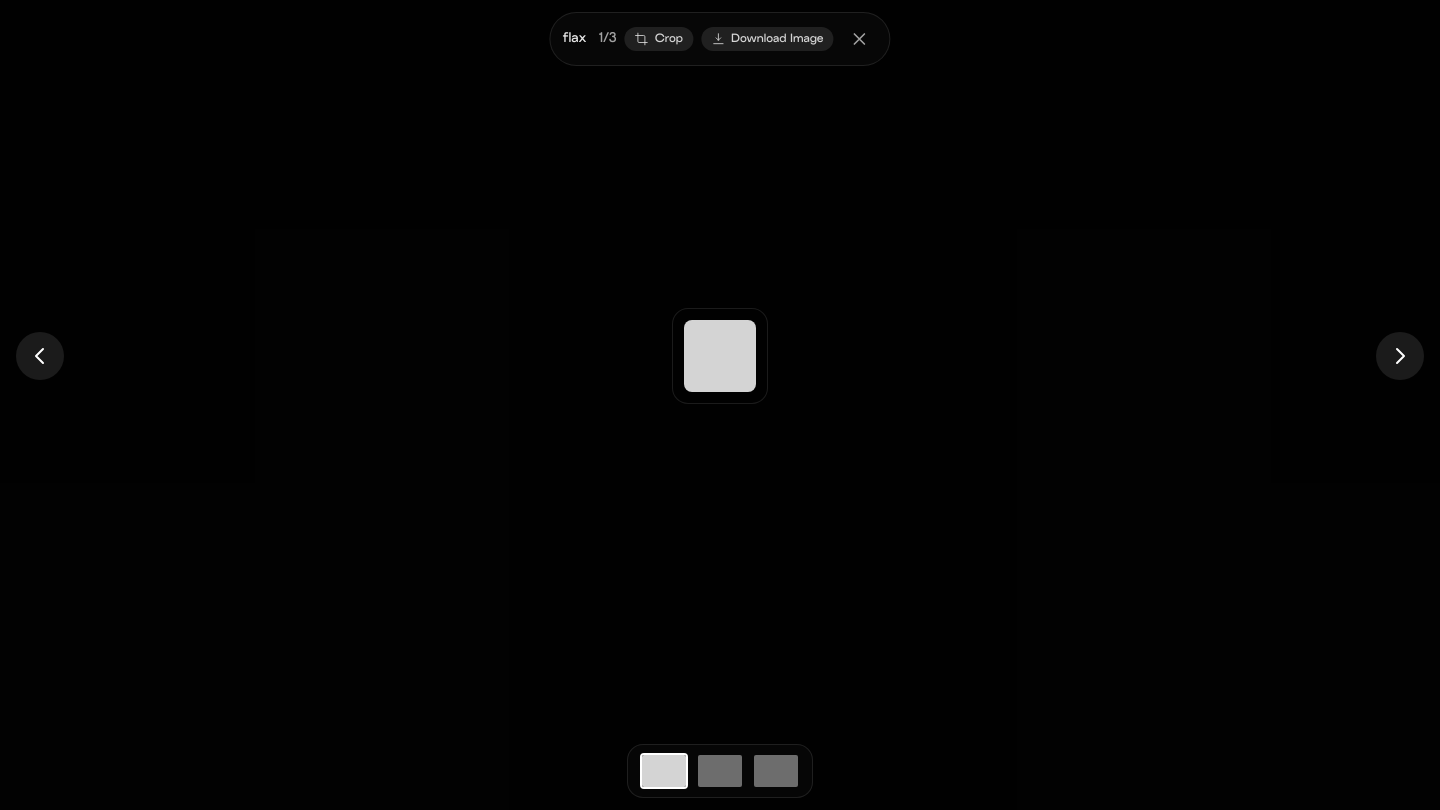
Scenario: ImageLightbox editorial cinema UX › hides left and right navigation in crop mode
What coordinates should you click on to do the following:
click the button with aria-label "crop image"
I would click on:
 (659, 39)
Its box is left=625, top=27, right=693, bottom=51.
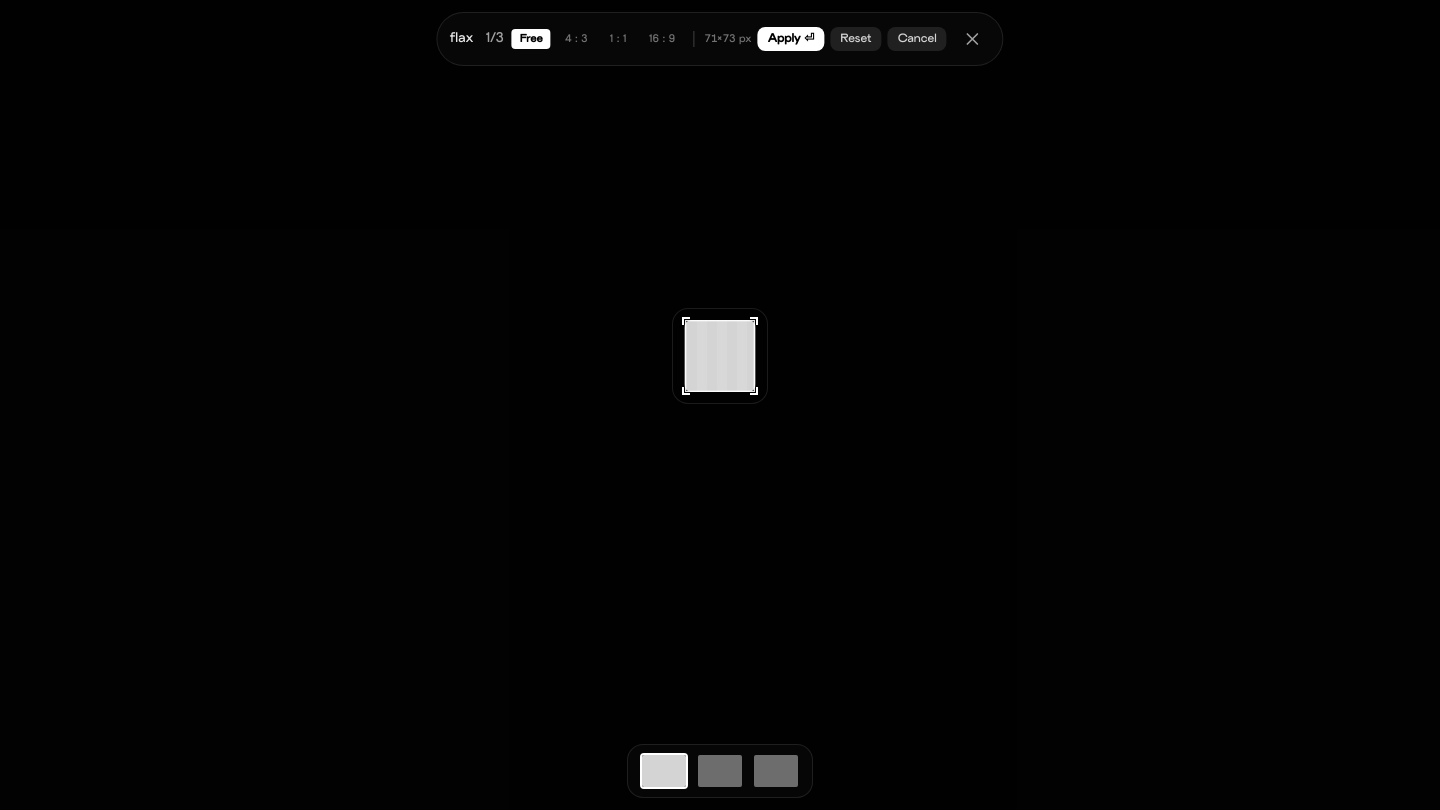
Result: the element named "crop controls" is shown at left=512, top=27, right=947, bottom=51
